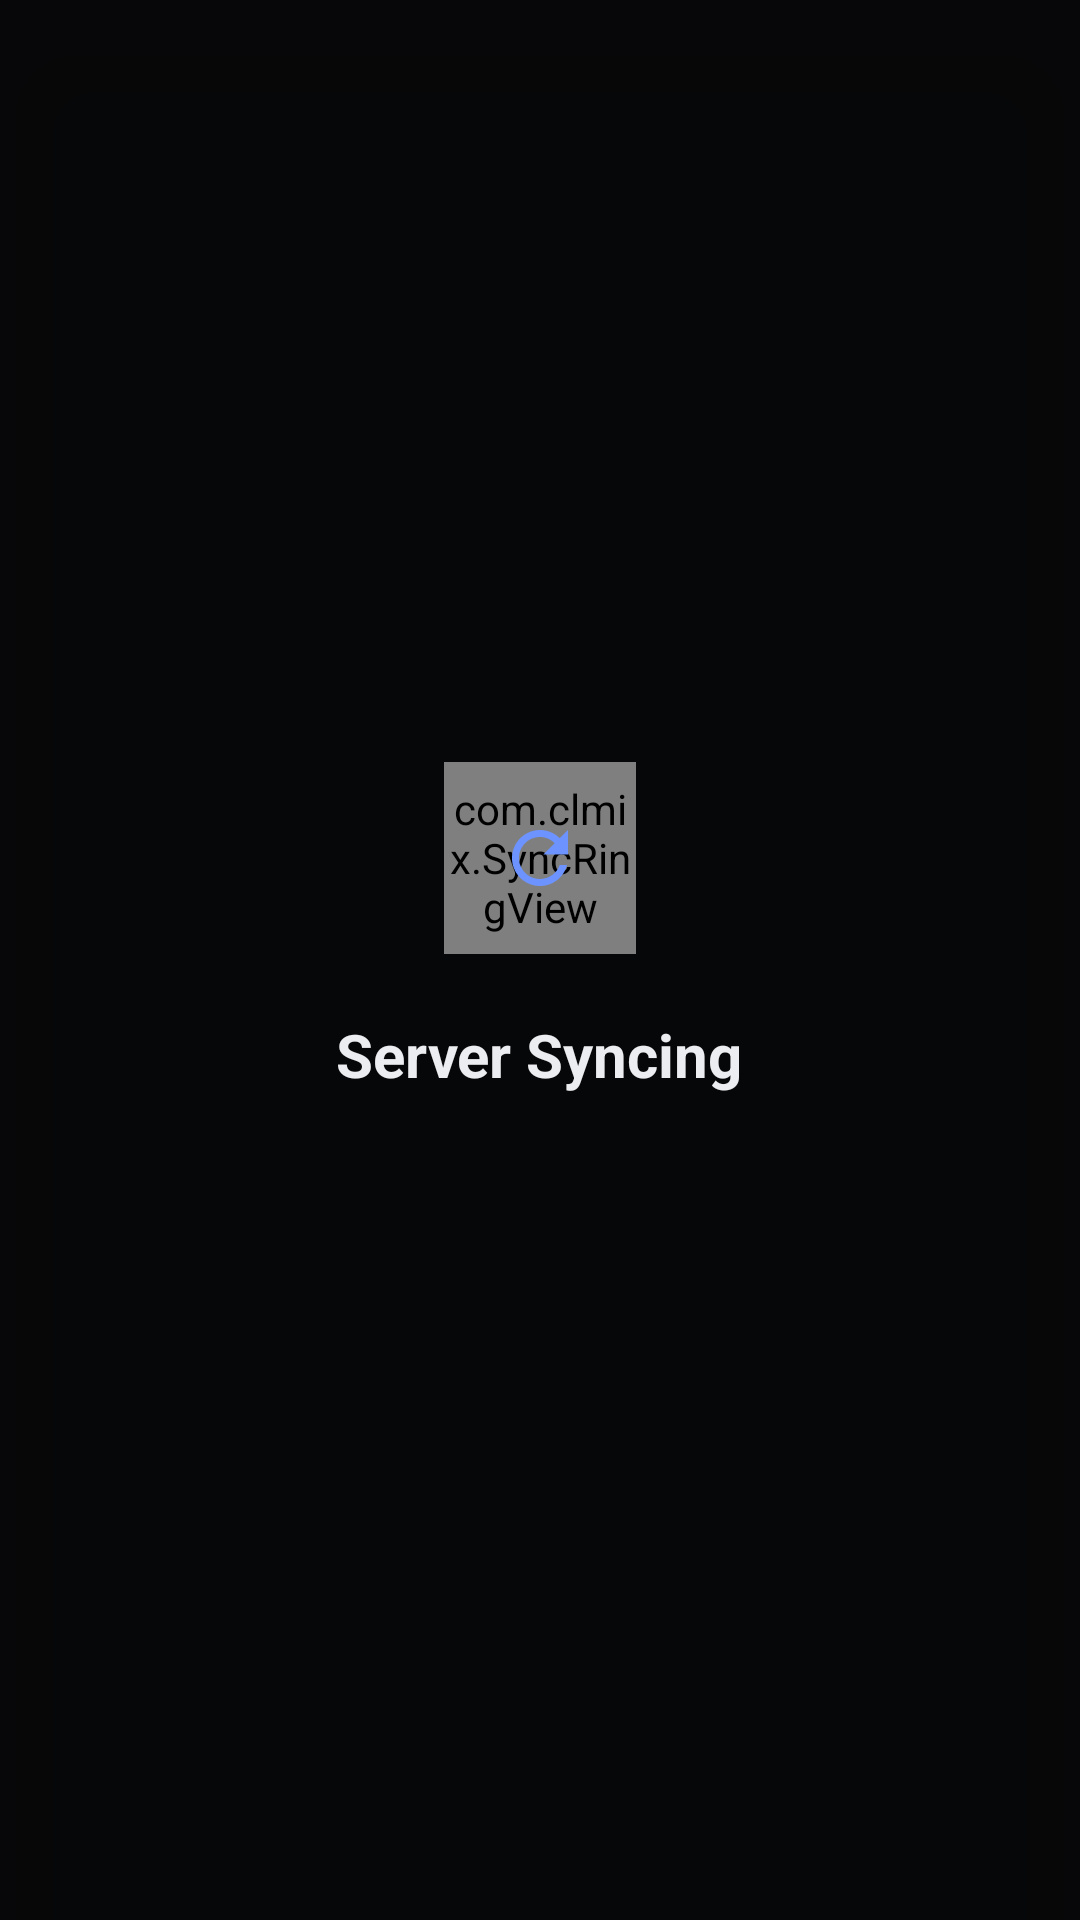

Icons on this 1080 × 1920 Android screen, each with the point to tap as (x,y):
refresh: (539,858)
